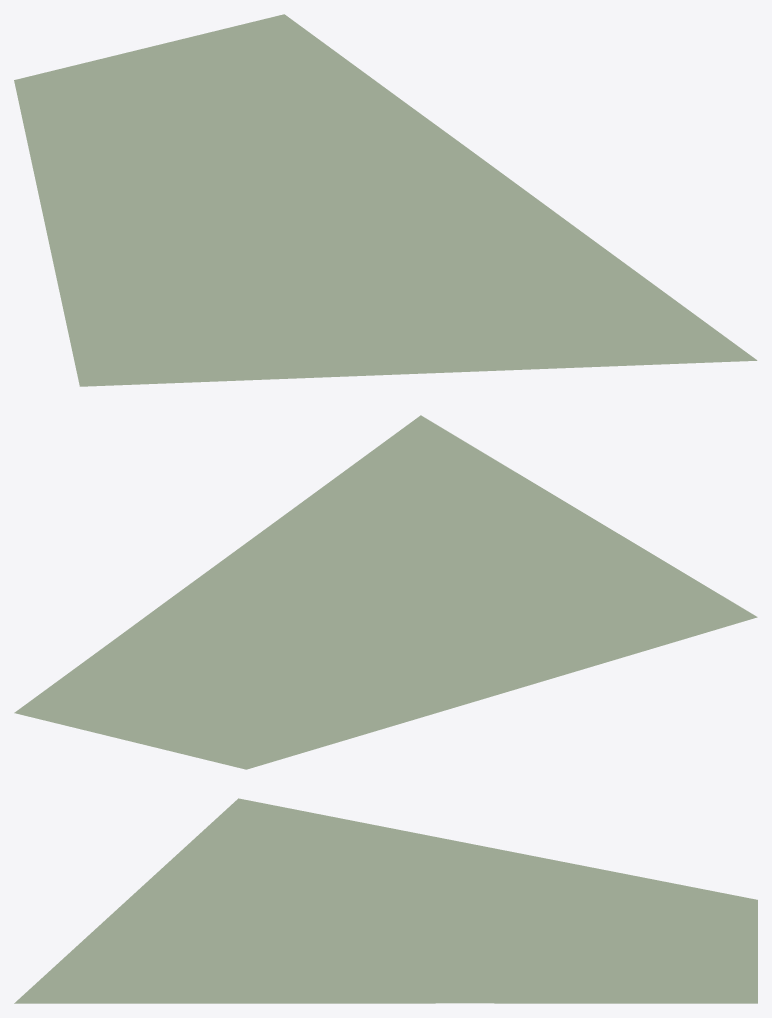
Rendered from SM_MPRR_Terrain_-6_-2.fbx.
3 renders of one model, top to bottom at view 1: azimuth 30°, elevation 25°; view 2: azimuth 150°, elevation 25°; view 3: azimuth 270°, elevation 25°, orthographic. The views are drawn at different scales.
Visible parts, largest first — view 1: SM_MPRR_Terrain_-6_-2; view 2: SM_MPRR_Terrain_-6_-2; view 3: SM_MPRR_Terrain_-6_-2.
Boxes of the visible parts, x1,y1,x2,y2 form: SM_MPRR_Terrain_-6_-2: (14, 14, 757, 386); SM_MPRR_Terrain_-6_-2: (14, 415, 757, 769); SM_MPRR_Terrain_-6_-2: (14, 798, 757, 1003).
Bounding box in the file's own units: 4541 × 6958 × 1.36.
